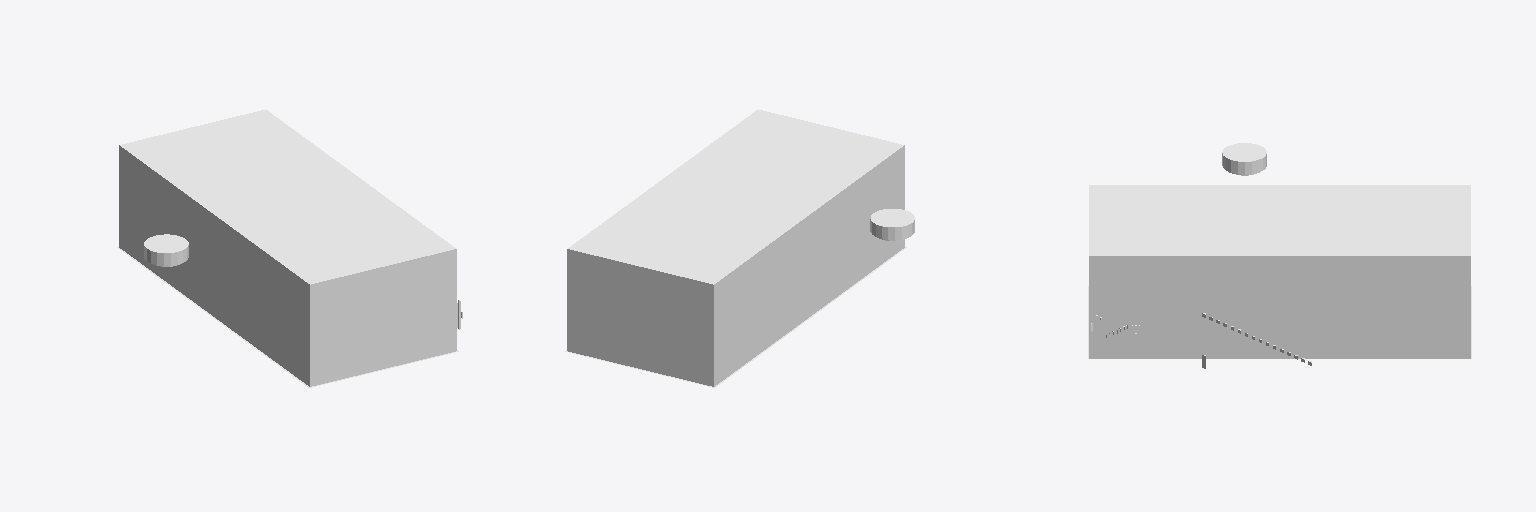
File: MAPF8_NimbusRuins.obj
The picture shows the model from 3 angles: view 1: azimuth 30°, elevation 25°; view 2: azimuth 150°, elevation 25°; view 3: azimuth 270°, elevation 25°; orthographic projection.
Visible parts, largest first — view 1: MAPF8; view 2: MAPF8; view 3: MAPF8.
Part boxes in pixels (left/top/right/bottom): MAPF8: left=117, top=109, right=462, bottom=387; MAPF8: left=565, top=109, right=914, bottom=387; MAPF8: left=1088, top=143, right=1471, bottom=368.
Bounding box in the file's own units: 10608 × 4096 × 13952.